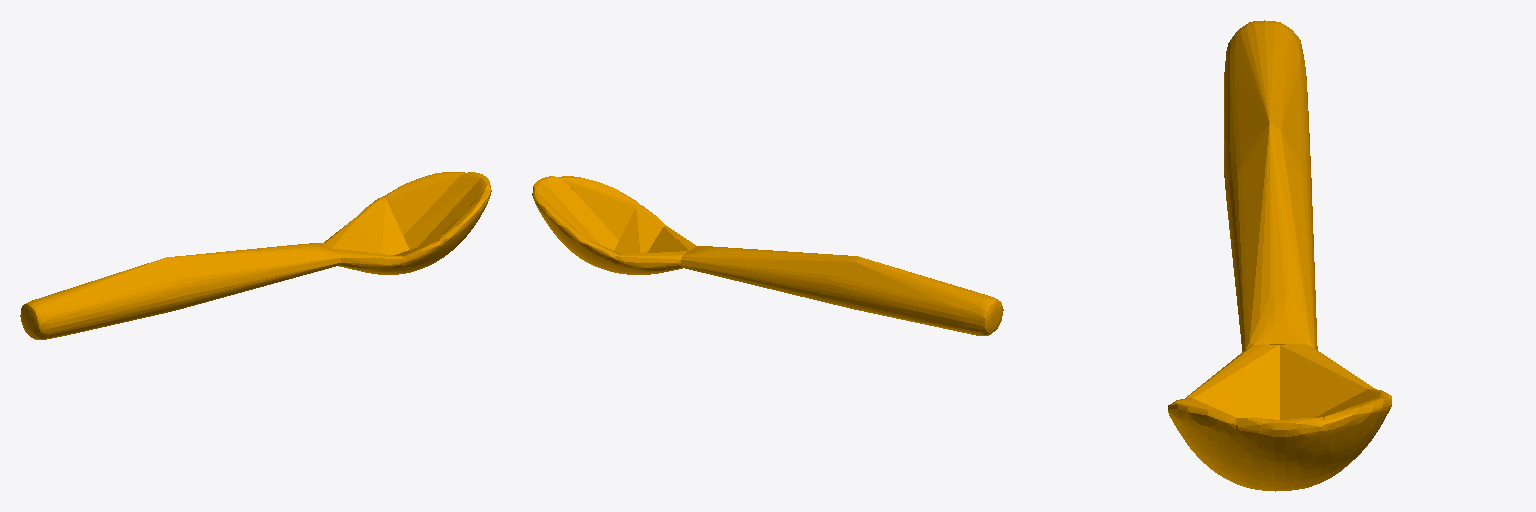
The robot description file, URDF, robot "spoon_spatula":
<?xml version='1.0' encoding='utf-8'?>
<robot name="spoon_spatula">
  <link name="spoon_spatula">
    <visual>
      <origin xyz="0 0 0" rpy="0 0 0" />
      <geometry>
        <mesh filename="spoon_spatula.obj" scale="1 1 1" />
      </geometry>
    </visual>
    <collision>
      <origin xyz="0 0 0" rpy="0 0 0" />
      <geometry>
        <mesh filename="spoon_spatula_collision/decomp_0.obj" scale="1 1 1" />
      </geometry>
    </collision>
    <collision>
      <origin xyz="0 0 0" rpy="0 0 0" />
      <geometry>
        <mesh filename="spoon_spatula_collision/decomp_1.obj" scale="1 1 1" />
      </geometry>
    </collision>
    <collision>
      <origin xyz="0 0 0" rpy="0 0 0" />
      <geometry>
        <mesh filename="spoon_spatula_collision/decomp_2.obj" scale="1 1 1" />
      </geometry>
    </collision>
    <collision>
      <origin xyz="0 0 0" rpy="0 0 0" />
      <geometry>
        <mesh filename="spoon_spatula_collision/decomp_3.obj" scale="1 1 1" />
      </geometry>
    </collision>
    <collision>
      <origin xyz="0 0 0" rpy="0 0 0" />
      <geometry>
        <mesh filename="spoon_spatula_collision/decomp_4.obj" scale="1 1 1" />
      </geometry>
    </collision>
    <collision>
      <origin xyz="0 0 0" rpy="0 0 0" />
      <geometry>
        <mesh filename="spoon_spatula_collision/decomp_5.obj" scale="1 1 1" />
      </geometry>
    </collision>
    <collision>
      <origin xyz="0 0 0" rpy="0 0 0" />
      <geometry>
        <mesh filename="spoon_spatula_collision/decomp_6.obj" scale="1 1 1" />
      </geometry>
    </collision>
    <collision>
      <origin xyz="0 0 0" rpy="0 0 0" />
      <geometry>
        <mesh filename="spoon_spatula_collision/decomp_7.obj" scale="1 1 1" />
      </geometry>
    </collision>
    <collision>
      <origin xyz="0 0 0" rpy="0 0 0" />
      <geometry>
        <mesh filename="spoon_spatula_collision/decomp_8.obj" scale="1 1 1" />
      </geometry>
    </collision>
    <inertial>
      <origin xyz="0.112612 -0.000574763 0.00121993" rpy="0 0 0" />
      <mass value="0.0928273" />
      <inertia ixx="2.32916e-05" ixy="-1.87933e-05" ixz="2.56045e-05" iyy="0.00103735" iyz="1.6963e-07" izz="0.00104371" />
    </inertial>
  </link>
</robot>

--- Facts derived from the render (not from the file) ---
Views: 3 orthographic renders of the robot side by side, from view 1: azimuth 30°, elevation 25°; view 2: azimuth 150°, elevation 25°; view 3: azimuth 270°, elevation 25°.
Model spoon_spatula with 1 links and 0 joints (none), rooted at spoon_spatula, posed all joints at 0.
Links seen in each view (by area): view 1: spoon_spatula; view 2: spoon_spatula; view 3: spoon_spatula.
Boxes of the visible links, x1=… form: spoon_spatula: x1=20, y1=172, x2=491, y2=339; spoon_spatula: x1=532, y1=176, x2=1003, y2=335; spoon_spatula: x1=1168, y1=20, x2=1391, y2=491.
Size in the robot's own frame: 0.3516 by 0.0769 by 0.0502 metres.
1 mesh visuals loaded from 1 distinct referenced files (1 OBJ).
